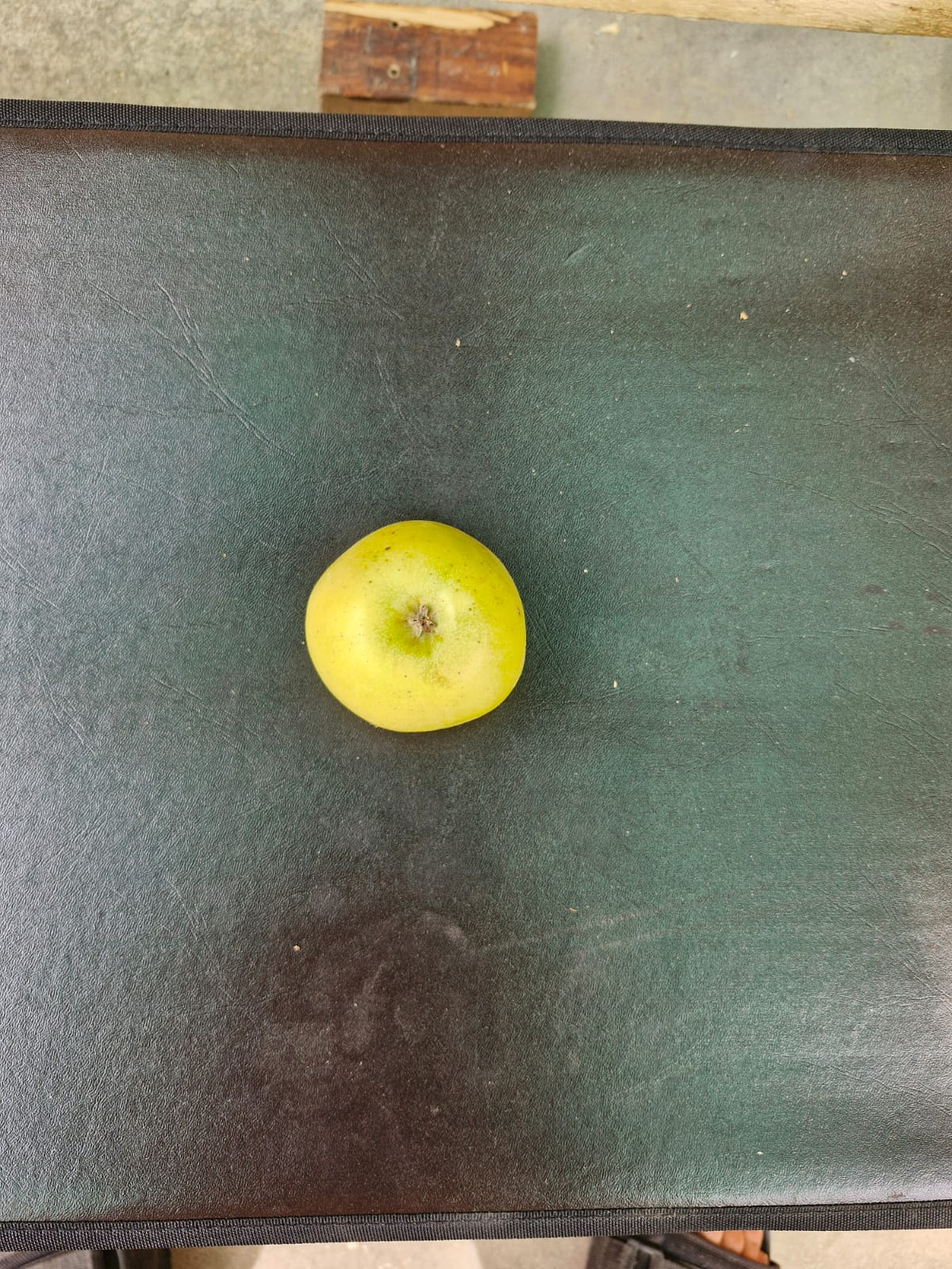apple: (26, 126, 785, 1113)
